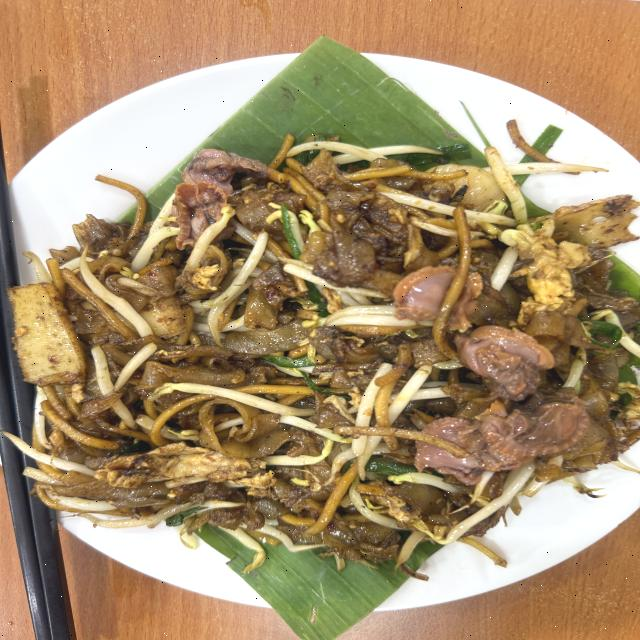Char Kway Teow: (17, 55, 628, 584)
